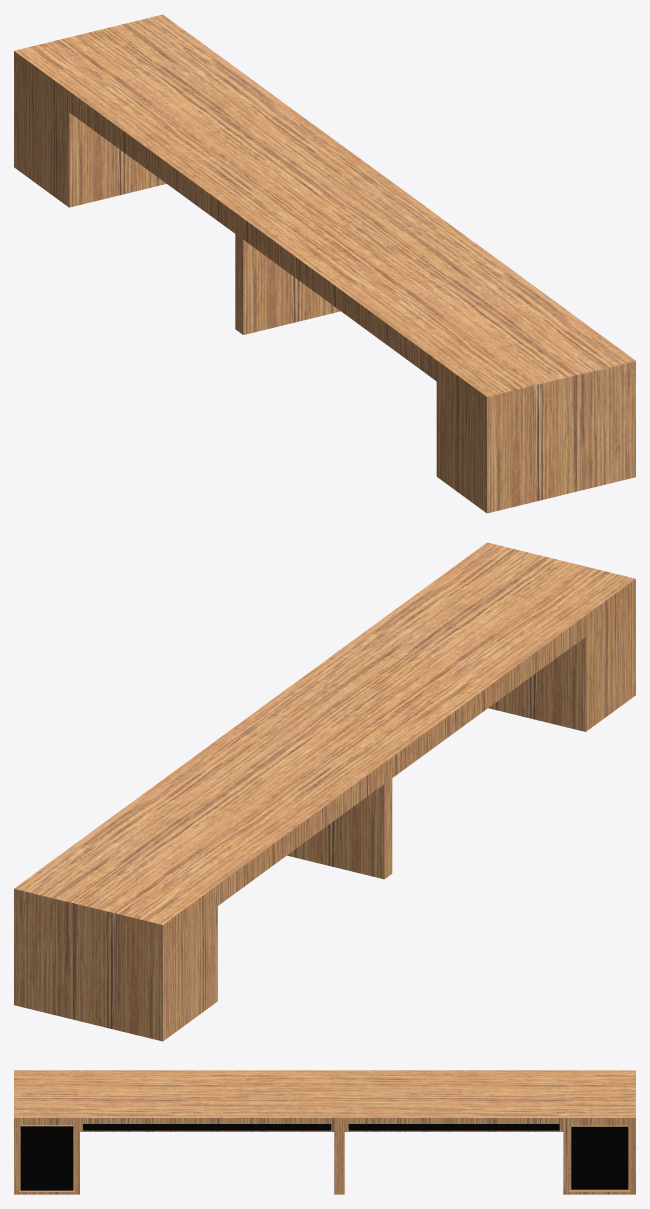
The model's file is Biurko.obj.
3 renders of one model, top to bottom at view 1: azimuth 30°, elevation 25°; view 2: azimuth 150°, elevation 25°; view 3: azimuth 270°, elevation 25°, orthographic. The views are drawn at different scales.
Visible parts, largest first — view 1: Biurko_Cube; view 2: Biurko_Cube; view 3: Biurko_Cube.
Boxes of the visible parts, <box> form: Biurko_Cube: <box>14,14,635,513</box>; Biurko_Cube: <box>14,542,635,1041</box>; Biurko_Cube: <box>14,1070,635,1194</box>.
Size of the model in its own units: 2 by 1.5 by 11.
